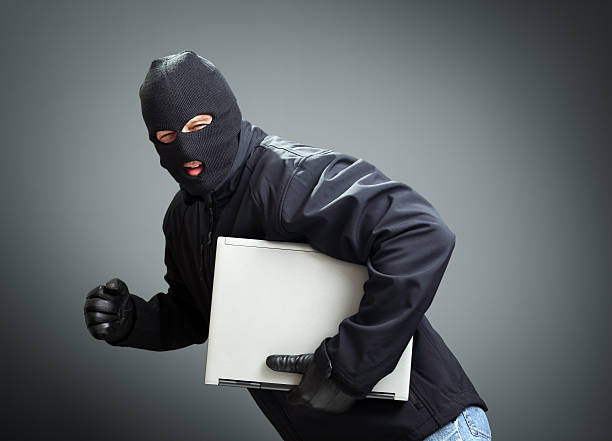thief: (78, 39, 473, 423), (117, 40, 269, 206)
